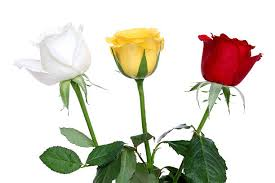lale: (96, 4, 184, 150), (18, 16, 116, 130), (193, 9, 266, 153)
